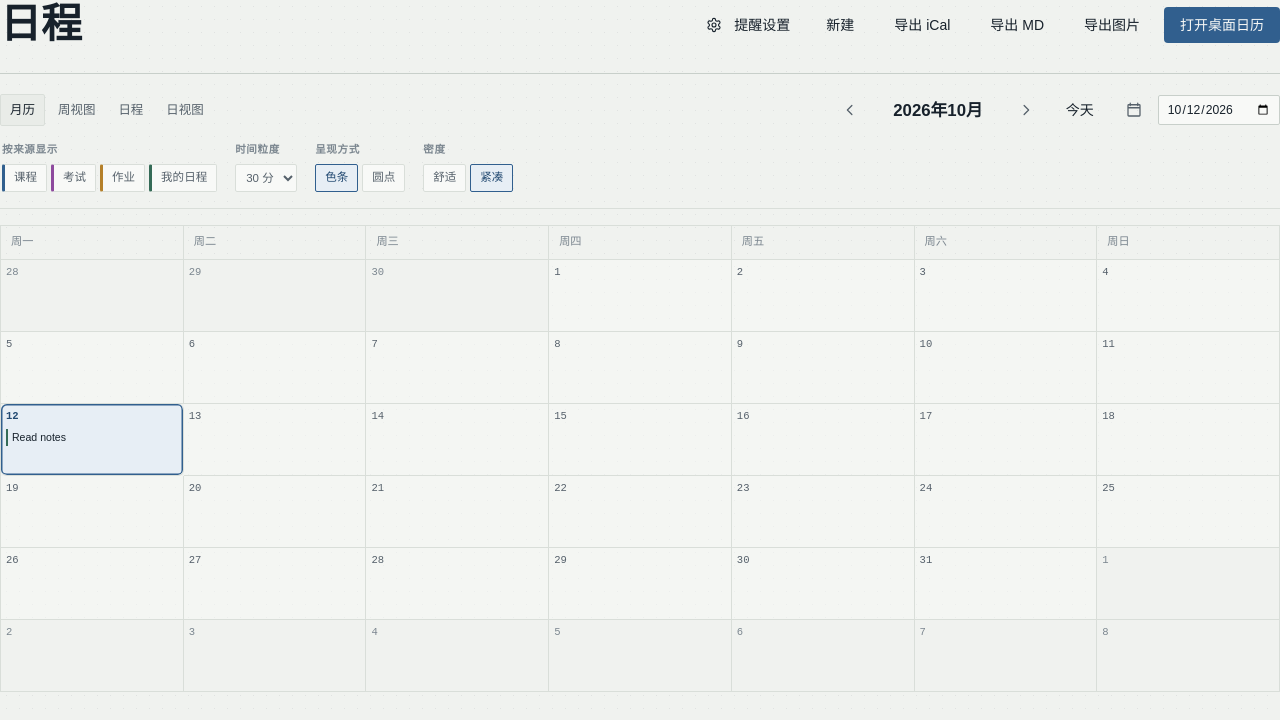
ScheduleView › opens a local task detail before offering edit actions
Click the button "Read notes".
click(92, 438)  # box 6,429 -> 178,446
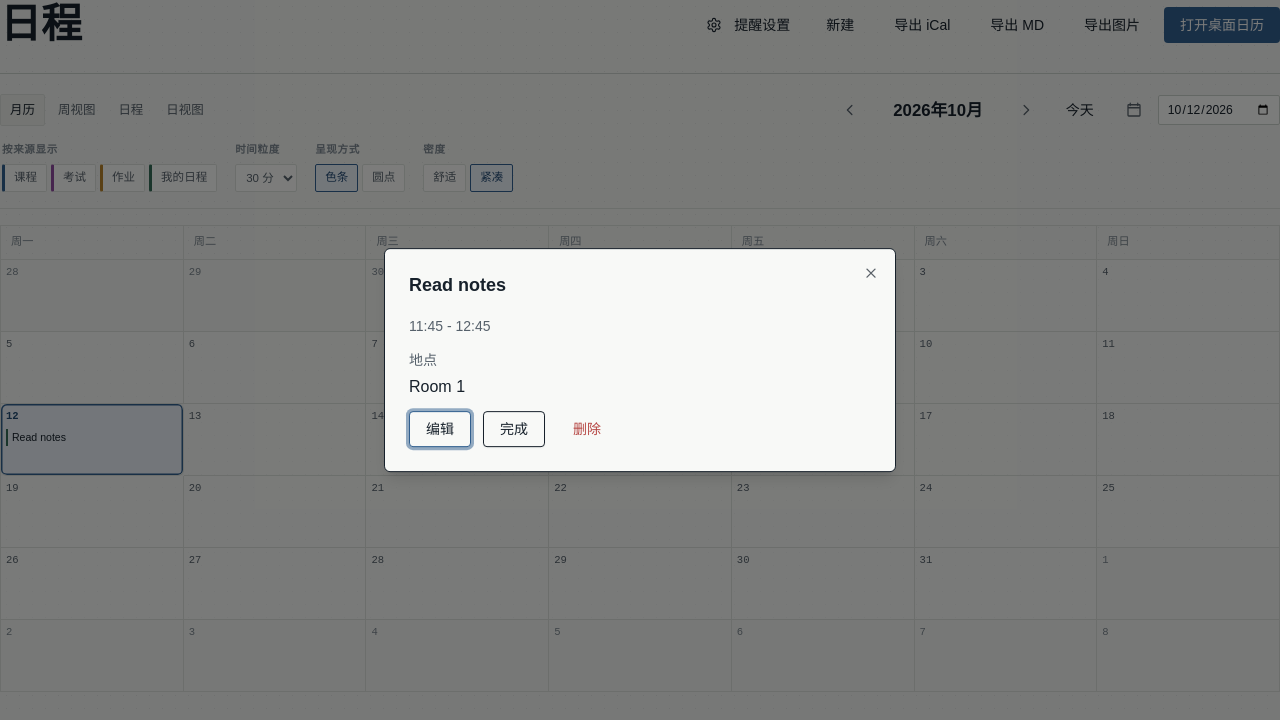
Now the dialog is shown, box 384,248 -> 896,472
Click the button "编辑".
click(440, 429)  # box 409,411 -> 471,447
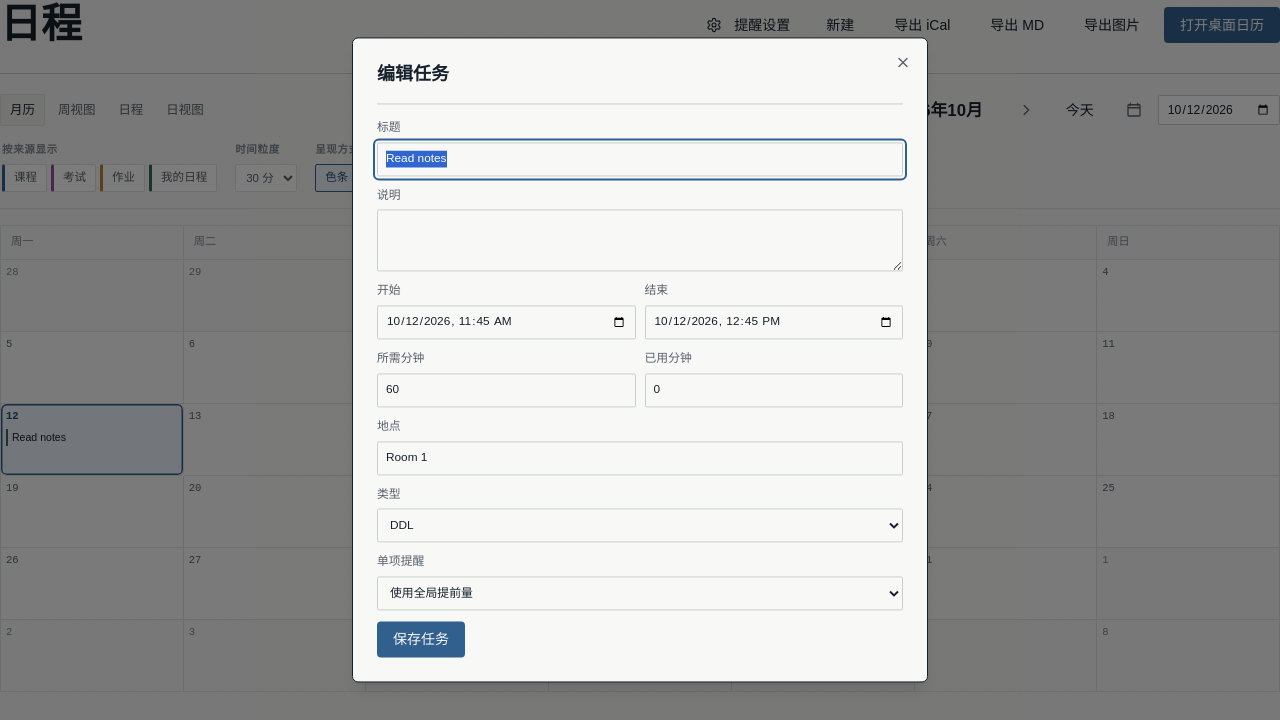
Now the heading "编辑任务" is shown, box 377,64 -> 449,84
